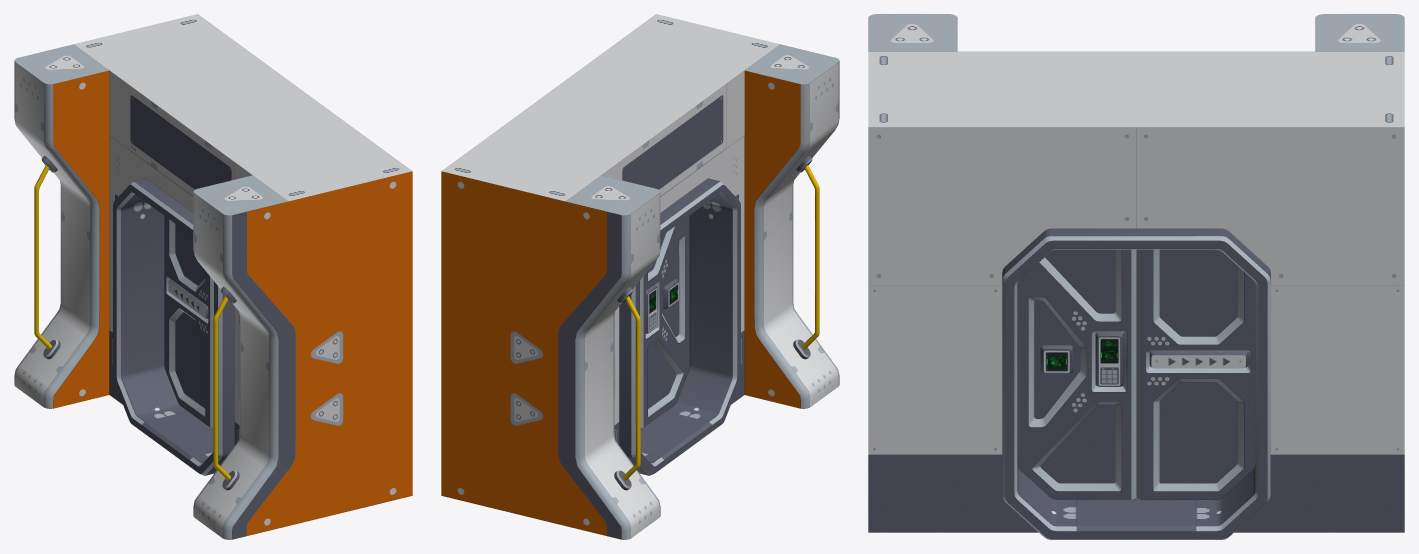
Rendered from Wall_Door_Simple_01.FBX.
3 renders of one model, left to right at view 1: azimuth 30°, elevation 25°; view 2: azimuth 150°, elevation 25°; view 3: azimuth 270°, elevation 25°, orthographic. The views are drawn at different scales.
Visible parts, largest first — view 1: Wall_Door_Simple_01, Door_Left, Wall_Fence_A, Wall_Fence_B; view 2: Wall_Door_Simple_01, Door_Right, Wall_Fence_B, Wall_Fence_A; view 3: Wall_Door_Simple_01, Door_Right, Door_Left.
Part boxes in pixels (x1,y1,x2,y2): Wall_Door_Simple_01: (14, 14, 412, 539); Door_Left: (164, 216, 213, 427); Wall_Fence_A: (34, 155, 60, 359); Wall_Fence_B: (213, 286, 239, 490); Wall_Door_Simple_01: (441, 14, 839, 539); Door_Right: (640, 216, 689, 427); Wall_Fence_B: (793, 155, 819, 359); Wall_Fence_A: (614, 286, 640, 490); Wall_Door_Simple_01: (868, 14, 1404, 539); Door_Right: (1017, 249, 1136, 499); Door_Left: (1136, 249, 1255, 499).
Size of the model in its own units: 3.25 by 5 by 6.
